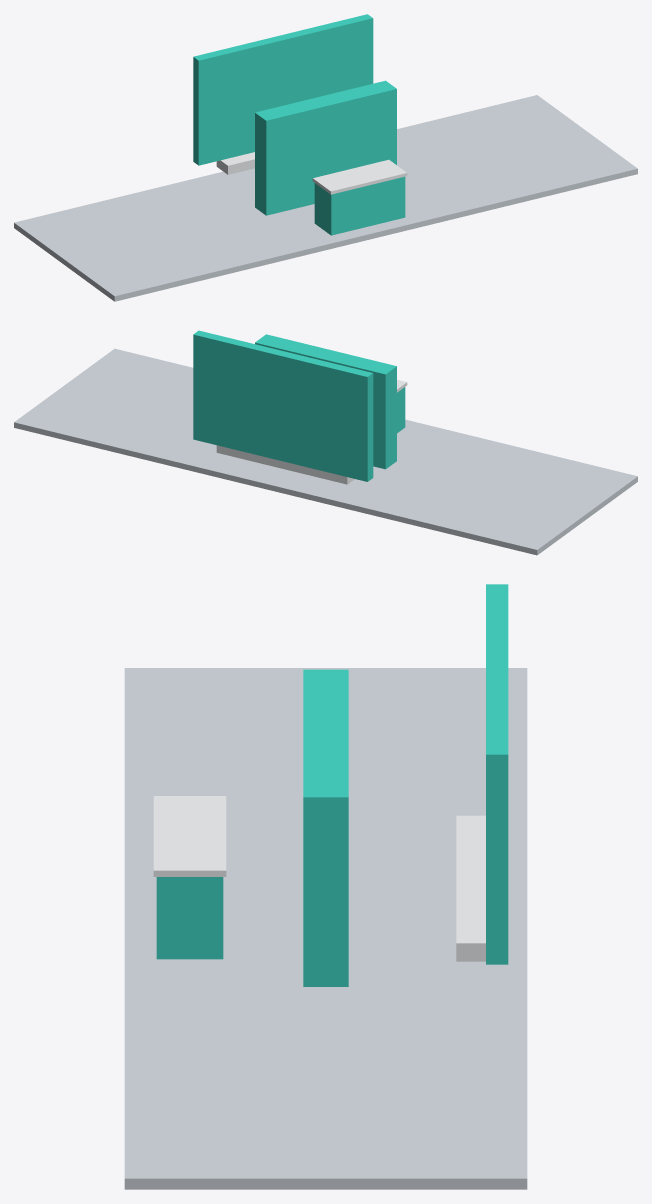
3 views of the same model, one above another, from view 1: azimuth 30°, elevation 25°; view 2: azimuth 150°, elevation 25°; view 3: azimuth 270°, elevation 25° (orthographic). The views are drawn at different scales.
Parts seen in each view (by area): view 1: Exhibition Booth Concept; view 2: Exhibition Booth Concept; view 3: Exhibition Booth Concept.
Boxes of the visible parts, bbox=[...] form: Exhibition Booth Concept: bbox=[14, 14, 637, 301]; Exhibition Booth Concept: bbox=[14, 330, 637, 555]; Exhibition Booth Concept: bbox=[124, 584, 527, 1189].
Size of the model in its own units: 12 by 2.9 by 4.
